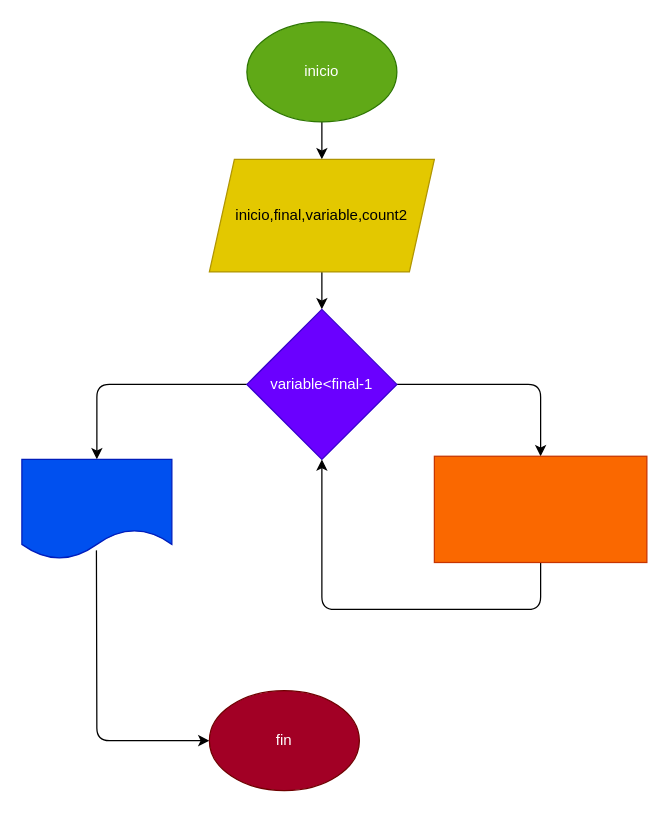
The diagram is 669 pixels wide and 813 high, and some of its shapes have lost their labels. Each missing label, with the centre of its shape:
"contiene (count2) dentro del rango (inicio:final)" belongs at point (96, 508).
"variable = variable + 1 count2 = count2 + 1 print ( variable )" belongs at point (540, 508).
